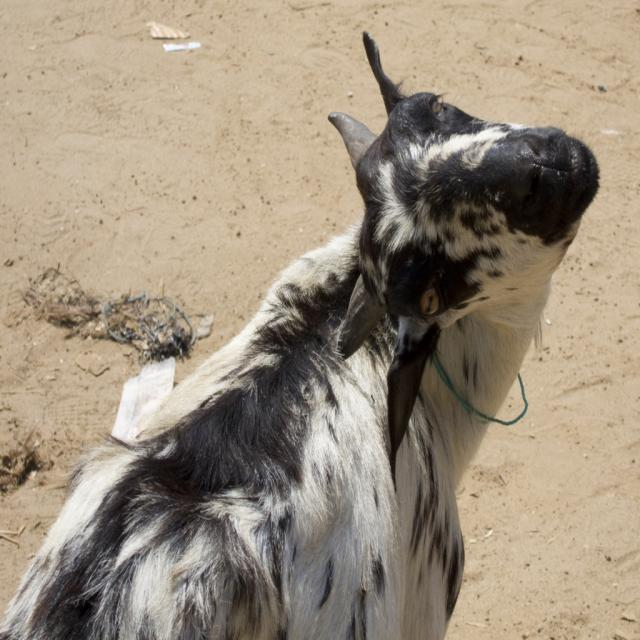Goat: (15, 40, 584, 622)
